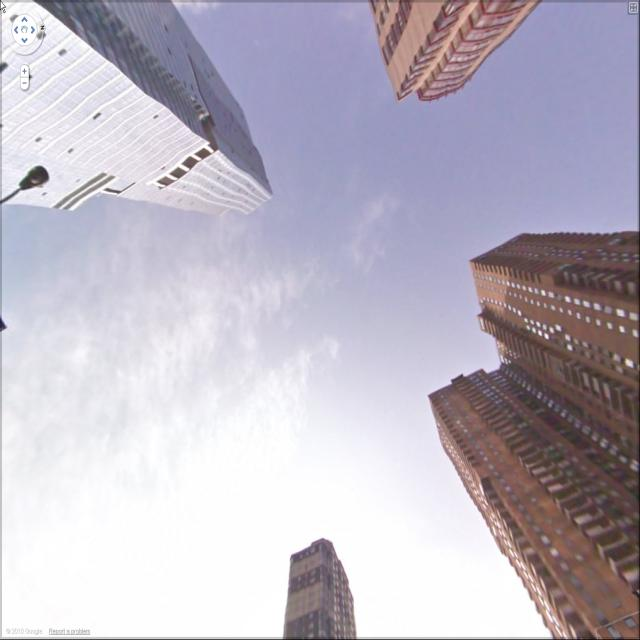b_1: (429, 213, 636, 640), (0, 0, 296, 216), (364, 1, 540, 126), (281, 518, 362, 636)
